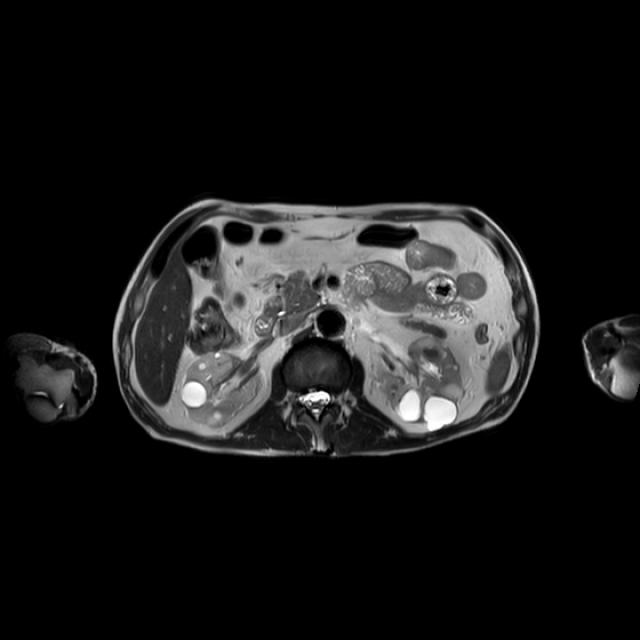sag: (183, 352, 263, 430)
sol: (377, 339, 464, 429)
